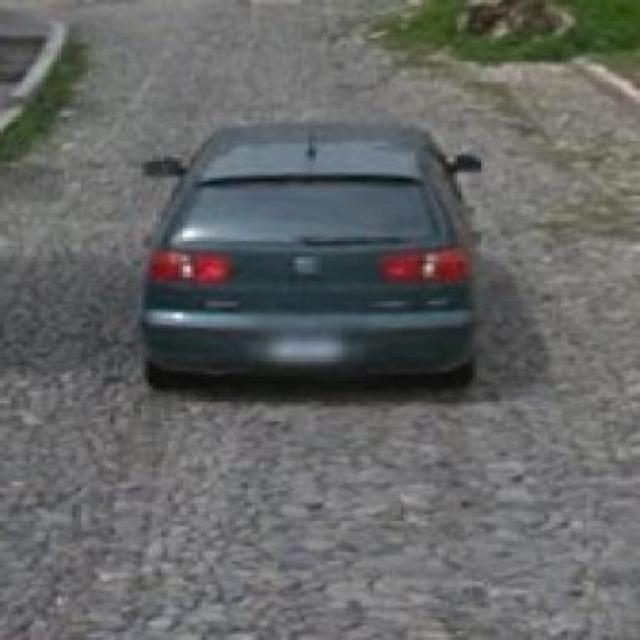car: (148, 128, 492, 400)
